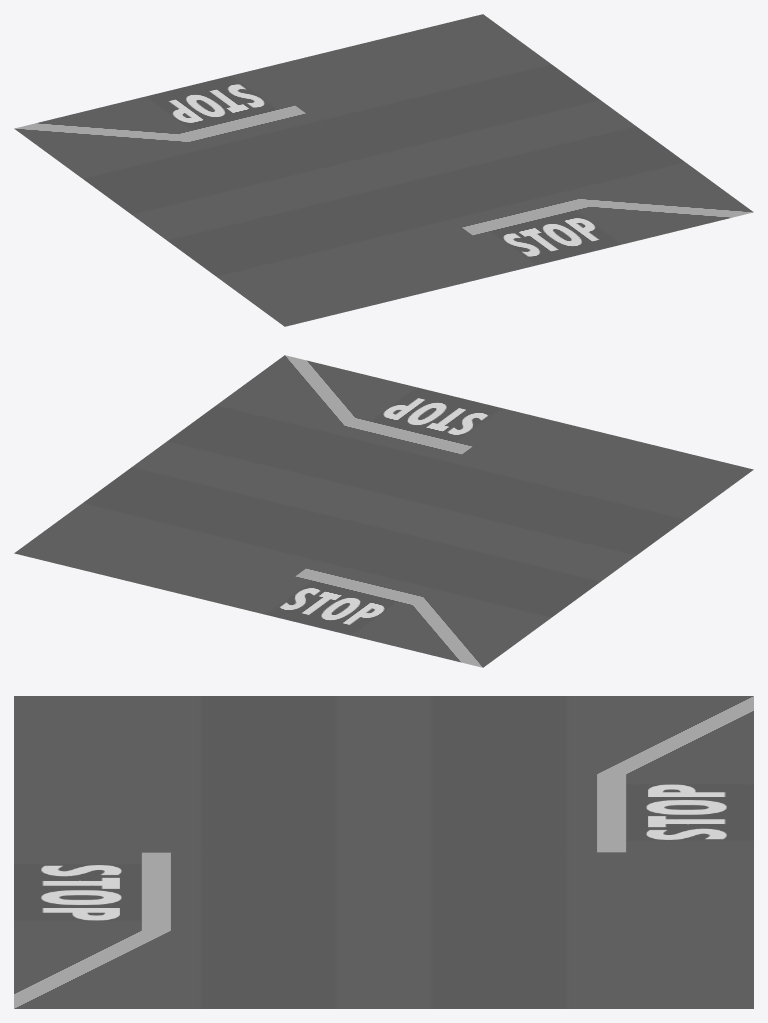
File: SM_road_03.glb
3 views of the same model, one above another, from view 1: azimuth 30°, elevation 25°; view 2: azimuth 150°, elevation 25°; view 3: azimuth 270°, elevation 25° (orthographic). The views are drawn at different scales.
Visible parts, largest first — view 1: SM_road_03; view 2: SM_road_03; view 3: SM_road_03.
Boxes of the visible parts, box(x1,y1,x2,y2) form: SM_road_03: box(14, 14, 753, 326); SM_road_03: box(14, 355, 753, 667); SM_road_03: box(14, 696, 753, 1008).
Bounding box in the file's own units: 16 × 9.8e-16 × 16.
Materials: 1 (1 with a texture image).
